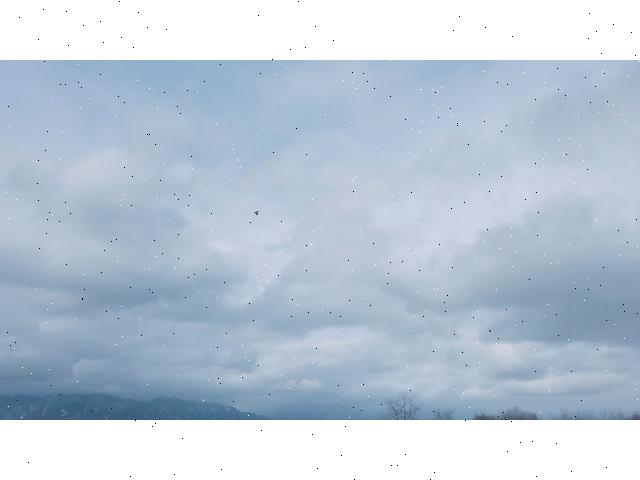Anti-Drone: (252, 208, 262, 217)
